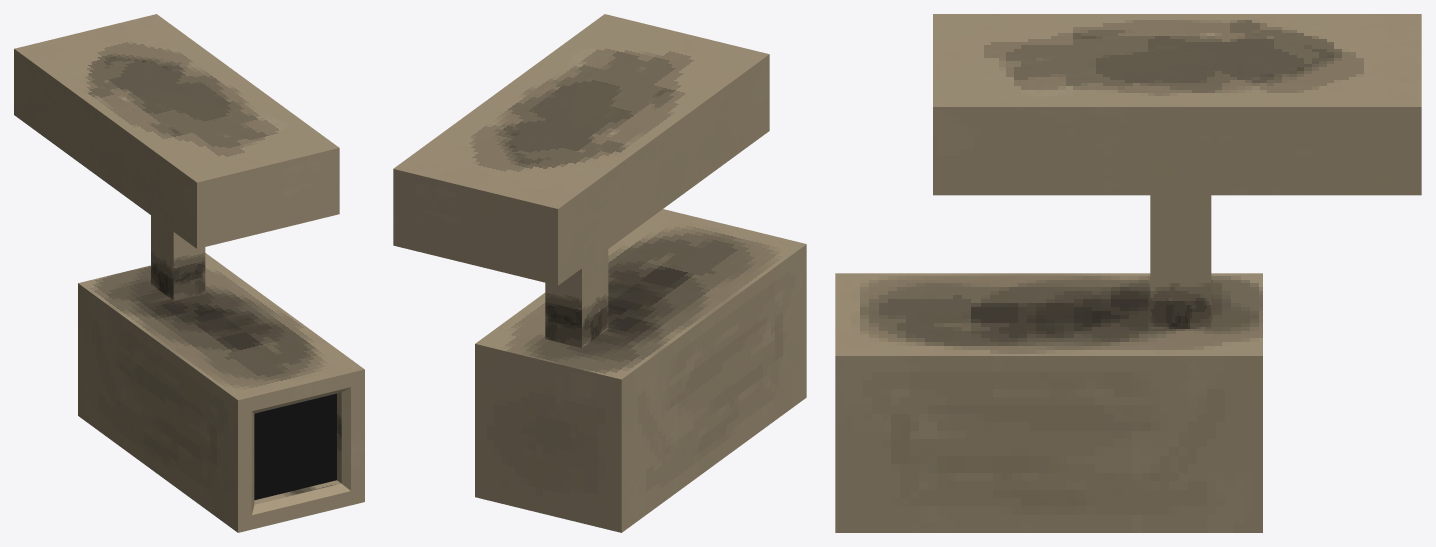
File: camera.glb
The picture shows the model from 3 angles, left to right: view 1: azimuth 30°, elevation 25°; view 2: azimuth 150°, elevation 25°; view 3: azimuth 270°, elevation 25°; orthographic projection. The views are drawn at different scales.
Visible parts, largest first — view 1: Cube.001, Cube.002; view 2: Cube.001, Cube.002; view 3: Cube.001, Cube.002.
Part boxes in pixels (x1,y1,x2,y2): Cube.001: [78, 253, 364, 532]; Cube.002: [14, 14, 339, 300]; Cube.001: [475, 209, 806, 532]; Cube.002: [393, 14, 769, 347]; Cube.001: [835, 273, 1262, 532]; Cube.002: [933, 14, 1421, 328].
Bounding box in the file's own units: 0.18 × 0.3916 × 0.48.
2 materials, 1 textured.
